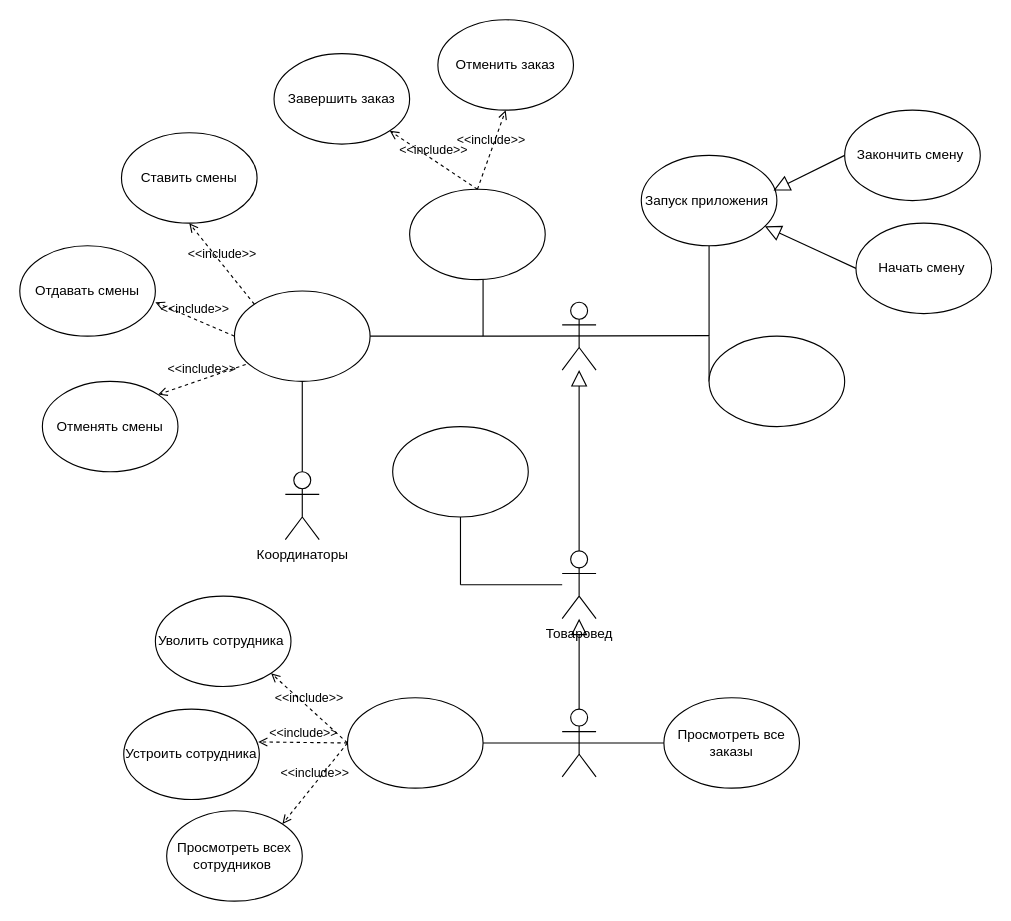
This 1011x921 diagram has some shape labels left out. The centre of each missing label's shape, as x and y in pixels:
"Директор" goes at [578,742].
"Курьер" goes at [578,335].
"Принять заказ от отправителя" goes at [460,471].
"Работа с заказом" goes at [476,234].
"Работа с сотрудником" goes at [414,742].
"Редактировать сменны" goes at [301,335].
"Рейтинг" goes at [776,381].
